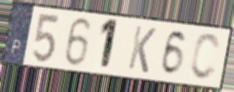1: (98, 18, 119, 74)
5: (31, 11, 62, 64)
6: (62, 16, 94, 68), (159, 29, 188, 77)
C: (188, 31, 222, 83)
K: (126, 24, 158, 76)
